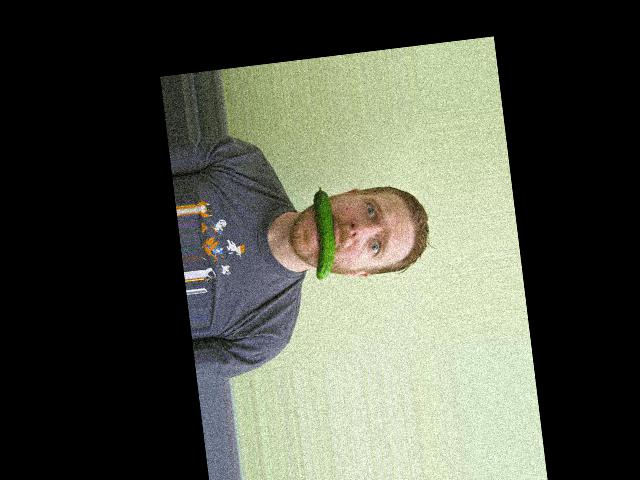cucumber: (305, 185, 340, 281)
